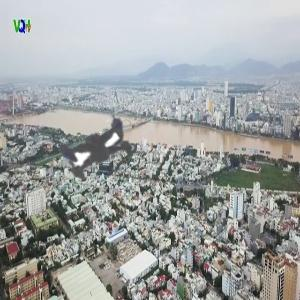drone: (15, 62, 190, 237)
